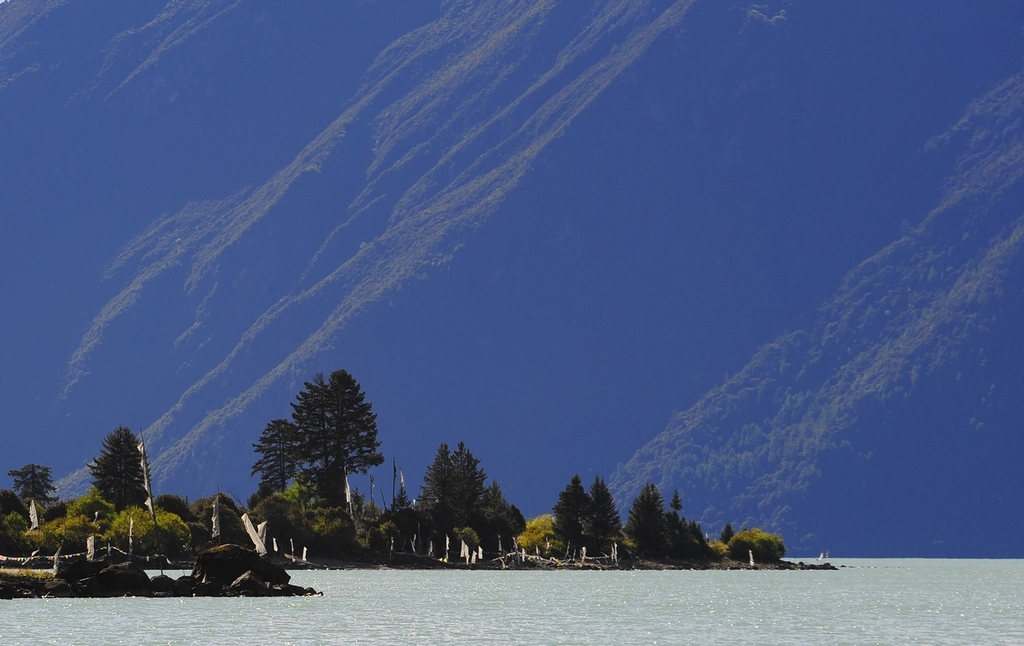Tree: (329, 359, 387, 498), (74, 424, 146, 531), (292, 371, 345, 501), (242, 417, 302, 498), (542, 475, 601, 549), (625, 480, 671, 560), (10, 457, 69, 516), (720, 519, 790, 560), (446, 439, 487, 503), (418, 448, 457, 506), (588, 480, 622, 545)
